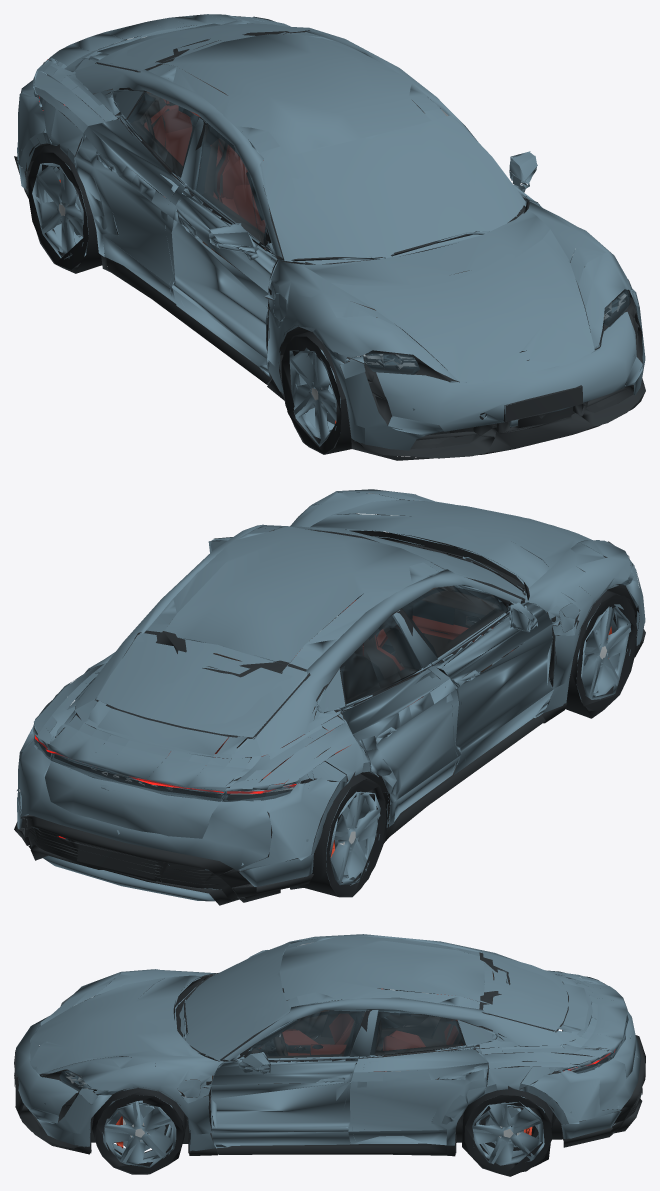
File: porsche-taycan-lod1.glb
The picture shows the model from 3 angles, top to bottom: view 1: azimuth 30°, elevation 25°; view 2: azimuth 150°, elevation 25°; view 3: azimuth 270°, elevation 25°; orthographic projection. The views are drawn at different scales.
Parts seen in each view (by area): view 1: Traffic_body, Traffic_RL, Traffic_FL; view 2: Traffic_body, Traffic_RL, Traffic_FL; view 3: Traffic_body, Traffic_RR, Traffic_FR.
Boxes of the visible parts, bbox=[...] form: Traffic_body: bbox=[14, 14, 645, 460]; Traffic_RL: bbox=[28, 137, 106, 273]; Traffic_FL: bbox=[281, 331, 351, 454]; Traffic_body: bbox=[14, 489, 645, 905]; Traffic_RL: bbox=[290, 767, 387, 897]; Traffic_FL: bbox=[565, 590, 637, 718]; Traffic_body: bbox=[14, 934, 645, 1156]; Traffic_RR: bbox=[460, 1079, 555, 1176]; Traffic_FR: bbox=[92, 1088, 187, 1174].
Size of the model in its own units: 2.14 by 1.41 by 4.96.
